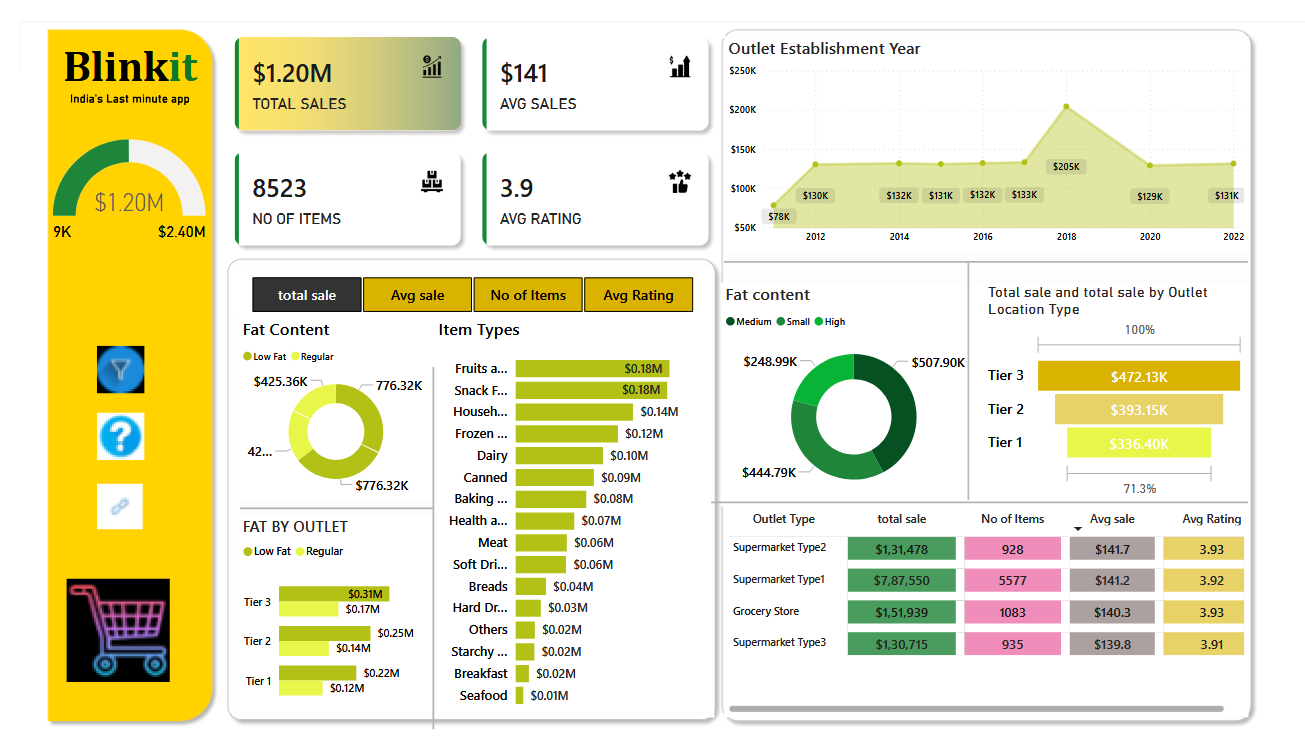

The page's visual inventory and layout, read from the dashboard file:
{"tool":"powerbi","page":{"name":"Page 1","canvas":[1400,800],"ordinal":0},"visuals":[{"type":"shape","box":[21,0,204.1,800],"z":0},{"type":"textbox","box":[21,16.5,204.1,181.6],"z":1000},{"type":"cardVisual","fields":{"Data":["BlinkIT Grocery Data.total sale","BlinkIT Grocery Data.Avg sale","BlinkIT Grocery Data.No of Items","BlinkIT Grocery Data.Avg Rating"]},"box":[225.1,0,570.3,270.2],"z":2000},{"type":"shape","box":[225.1,259.6,570.3,540.3],"z":3000},{"type":"shape","box":[783.4,0,616.9,799.7],"z":4000},{"type":"slicer","fields":{"Values":["Parameter1.Parameter1"]},"box":[235.6,282.2,547.8,52.5],"z":5000},{"type":"donutChart","title":" Fat Content","fields":{"Y":["Sum(BlinkIT Grocery Data.Sales)","BlinkIT Grocery Data.total sale"],"Category":["BlinkIT Grocery Data.Item Fat Content"]},"box":[246.1,334.7,220.6,207.1],"z":6000},{"type":"clusteredBarChart","title":"FAT BY OUTLET","fields":{"Y":["BlinkIT Grocery Data.total sale"],"Series":["BlinkIT Grocery Data.Item Fat Content"],"Category":["BlinkIT Grocery Data.Outlet Location Type"]},"box":[246.1,556.8,220.6,229.6],"z":7000},{"type":"barChart","title":"Item Types","fields":{"Y":["BlinkIT Grocery Data.total sale"],"Category":["BlinkIT Grocery Data.Item Type"]},"box":[466.8,334.7,316.7,451.8],"z":8000},{"type":"stackedAreaChart","title":"Outlet Establishment Year","fields":{"Y":["BlinkIT Grocery Data.total sale"],"Category":["BlinkIT Grocery Data.Outlet Establishment Year"]},"box":[795.3,16.4,593.1,243.8],"z":9000},{"type":"donutChart","title":"Fat content","fields":{"Y":["BlinkIT Grocery Data.total sale"],"Category":["BlinkIT Grocery Data.Outlet Size"]},"box":[792.3,295.8,300.3,252.7],"z":10000},{"type":"funnel","title":"Total sale and total sale by Outlet Location Type","fields":{"Y":["BlinkIT Grocery Data.total sale"],"Category":["BlinkIT Grocery Data.Outlet Location Type"]},"box":[1088.1,295.8,300.3,248.2],"z":11000},{"type":"pivotTable","fields":{"Rows":["BlinkIT Grocery Data.Outlet Type"],"Values":["BlinkIT Grocery Data.total sale","BlinkIT Grocery Data.No of Items","BlinkIT Grocery Data.Avg sale","BlinkIT Grocery Data.Avg Rating"]},"box":[795.3,544.1,593.1,242.3],"z":12000},{"type":"gauge","fields":{"Y":["BlinkIT Grocery Data.total sale"],"MinValue":["BlinkIT Grocery Data.No of Items"]},"box":[31.2,84.7,182.8,211.1],"z":13000},{"type":"shape","box":[246.8,399.9,220,300.3],"z":14000},{"type":"shape","box":[152,390,628,410],"z":15000},{"type":"shape","box":[795.3,121.9,593.1,300.3],"z":16000},{"type":"shape","box":[921.6,272,300.3,269.1],"z":17000},{"type":"shape","box":[780.4,393.9,608,300.3],"z":18000},{"type":"actionButton","box":[82,362,62,62],"z":19000},{"type":"actionButton","box":[82,518,82,60],"z":21000},{"type":"actionButton","box":[82,438,107,62],"z":22000},{"type":"actionButton","box":[48,611,125,153],"z":23000}]}

Visuals, with their boxes in screenshot pixels (x1, y1, x2, y2), scaled from the page's 1400x800 canvas onto the 1305x756 screenshot:
shape: (left=20, top=0, right=210, bottom=755)
textbox: (left=20, top=16, right=210, bottom=187)
cardVisual - BlinkIT Grocery Data.total sale x BlinkIT Grocery Data.Avg sale: (left=210, top=0, right=741, bottom=255)
shape: (left=210, top=245, right=741, bottom=755)
shape: (left=730, top=0, right=1304, bottom=755)
slicer - Parameter1.Parameter1: (left=220, top=267, right=730, bottom=316)
" Fat Content" donutChart: (left=229, top=316, right=435, bottom=512)
"FAT BY OUTLET" clusteredBarChart: (left=229, top=526, right=435, bottom=743)
"Item Types" barChart: (left=435, top=316, right=730, bottom=743)
"Outlet Establishment Year" stackedAreaChart: (left=741, top=15, right=1294, bottom=246)
"Fat content" donutChart: (left=739, top=280, right=1018, bottom=518)
"Total sale and total sale by Outlet Location Type" funnel: (left=1014, top=280, right=1294, bottom=514)
pivotTable - BlinkIT Grocery Data.Outlet Type x BlinkIT Grocery Data.total sale: (left=741, top=514, right=1294, bottom=743)
gauge - BlinkIT Grocery Data.total sale x BlinkIT Grocery Data.No of Items: (left=29, top=80, right=199, bottom=280)
shape: (left=230, top=378, right=435, bottom=662)
shape: (left=142, top=369, right=727, bottom=755)
shape: (left=741, top=115, right=1294, bottom=399)
shape: (left=859, top=257, right=1139, bottom=511)
shape: (left=727, top=372, right=1294, bottom=656)
actionButton: (left=76, top=342, right=134, bottom=401)
actionButton: (left=76, top=490, right=153, bottom=546)
actionButton: (left=76, top=414, right=176, bottom=472)
actionButton: (left=45, top=577, right=161, bottom=722)
